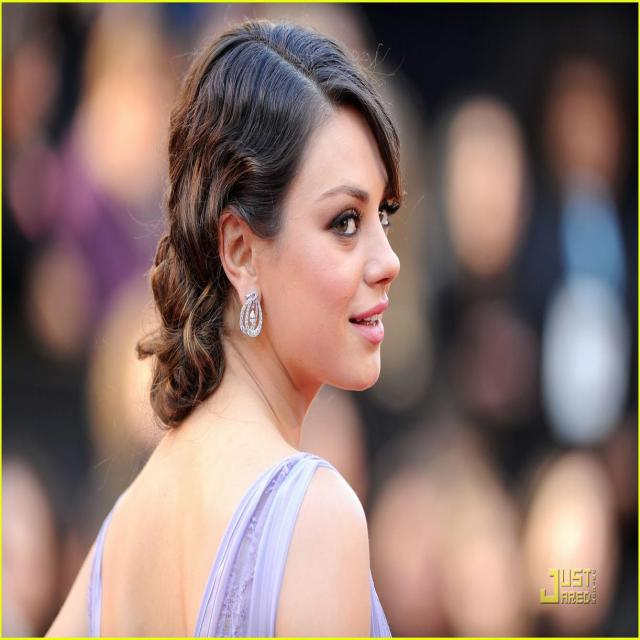no-earmuff: (204, 183, 279, 316)
